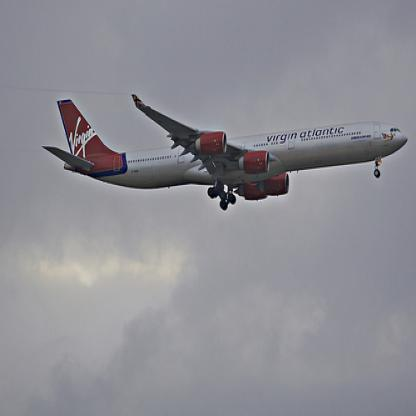aeroplane: (41, 90, 409, 211)
